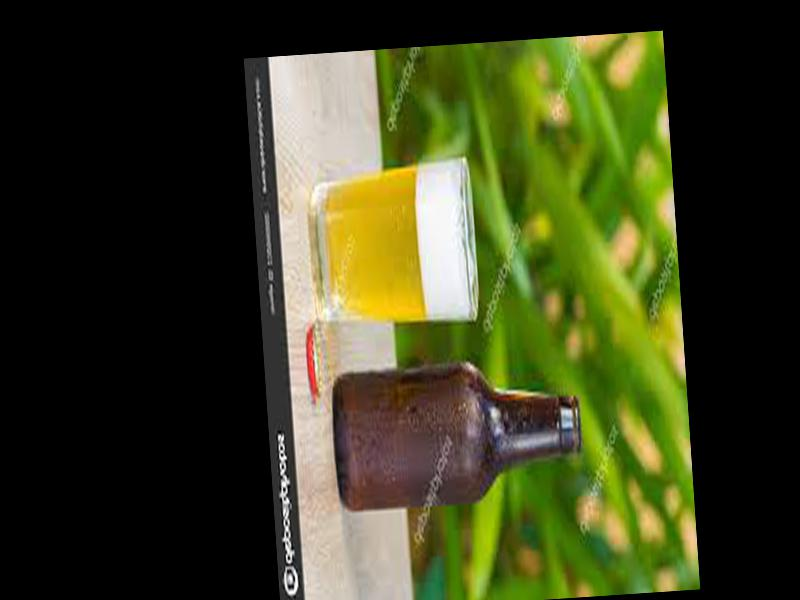Beer: (328, 357, 583, 506)
